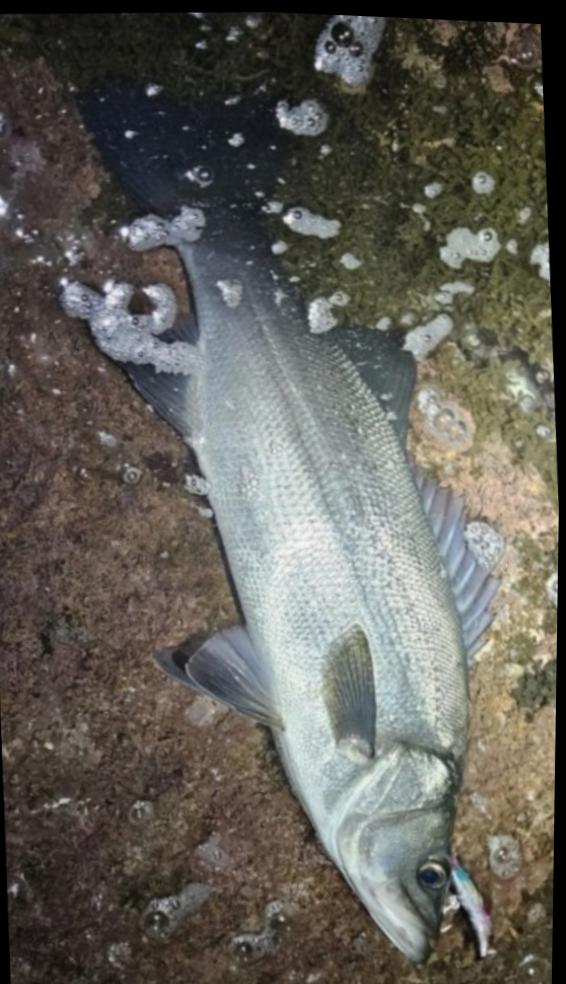fish: (79, 71, 498, 957)
